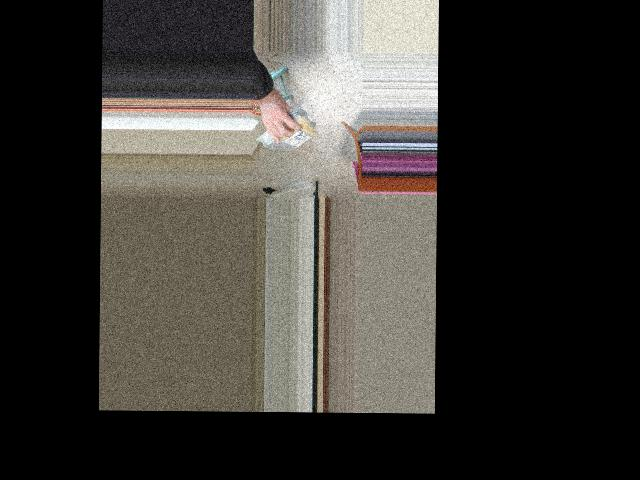cheese: (259, 118, 323, 146)
